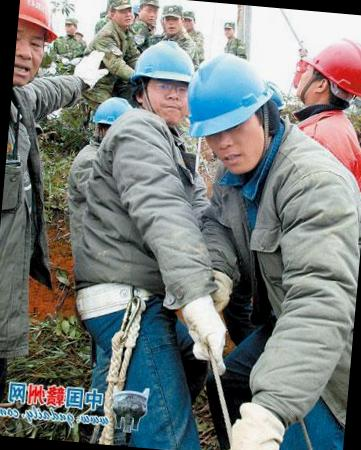no_helmet: (155, 0, 187, 38), (103, 0, 135, 30), (135, 0, 158, 27), (57, 14, 80, 38), (179, 9, 199, 34), (221, 18, 240, 40)
